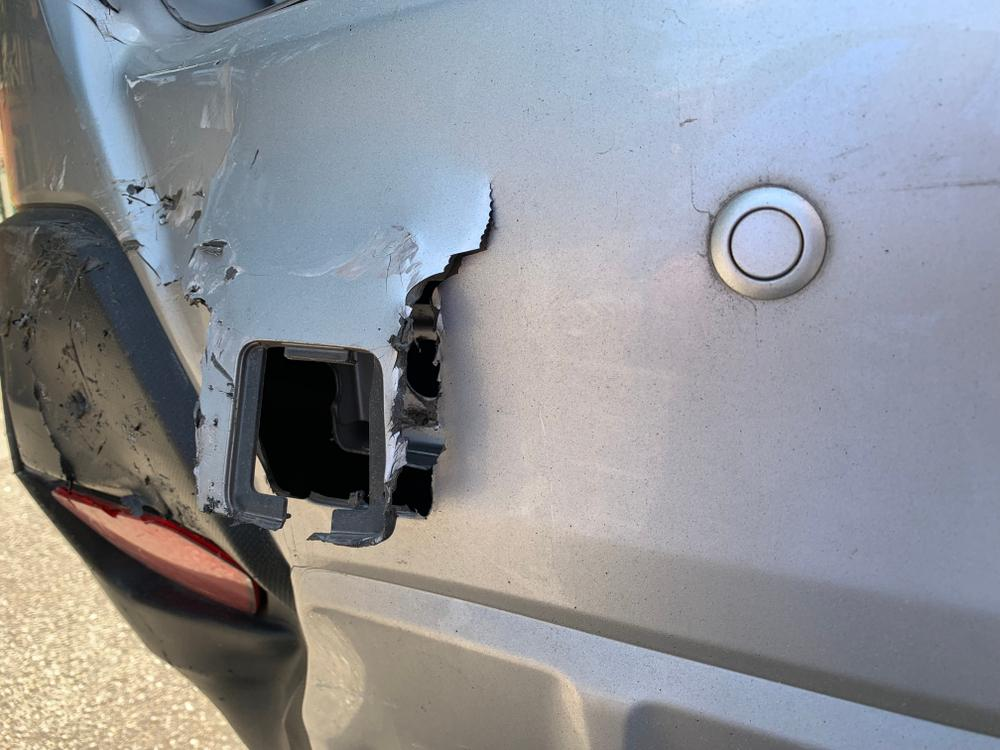crack: (376, 180, 503, 521)
